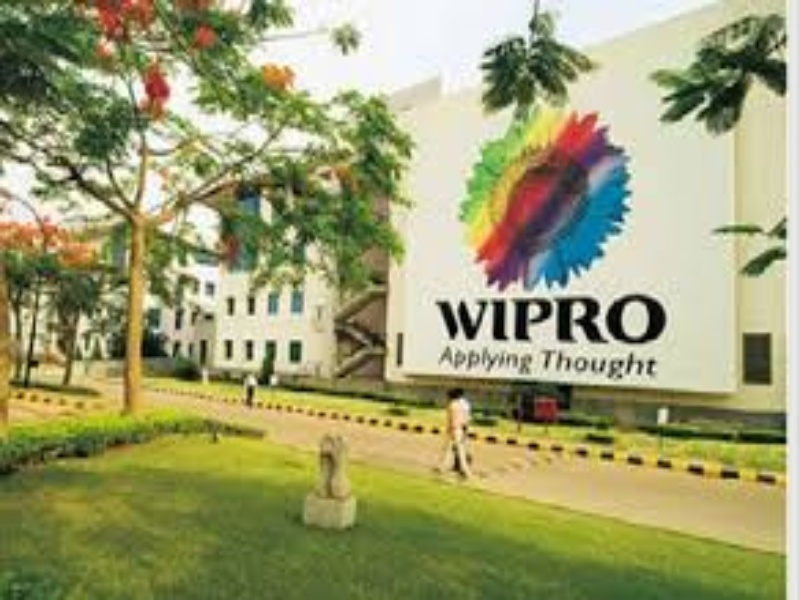wipro: (453, 103, 638, 292)
